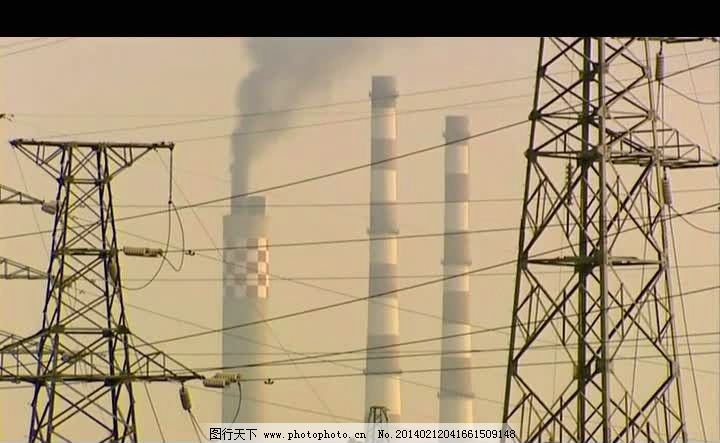dust: (217, 36, 359, 227)
